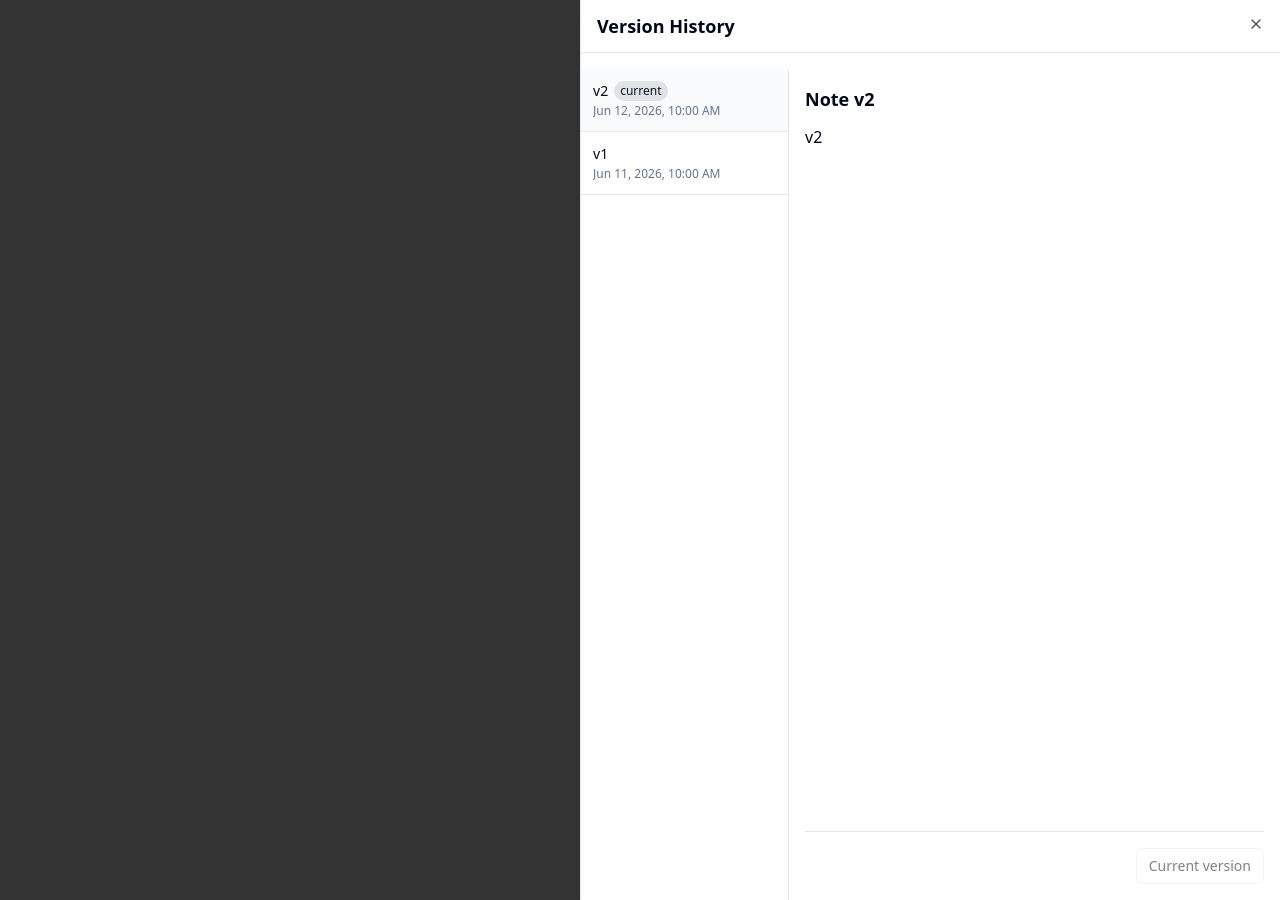
VersionHistorySheet › C05: clicking a version row selects it and shows its preview
Click the button "v1 Jun 11, 2026, 10:00 AM" at (684, 164), box [581,132,788,195]
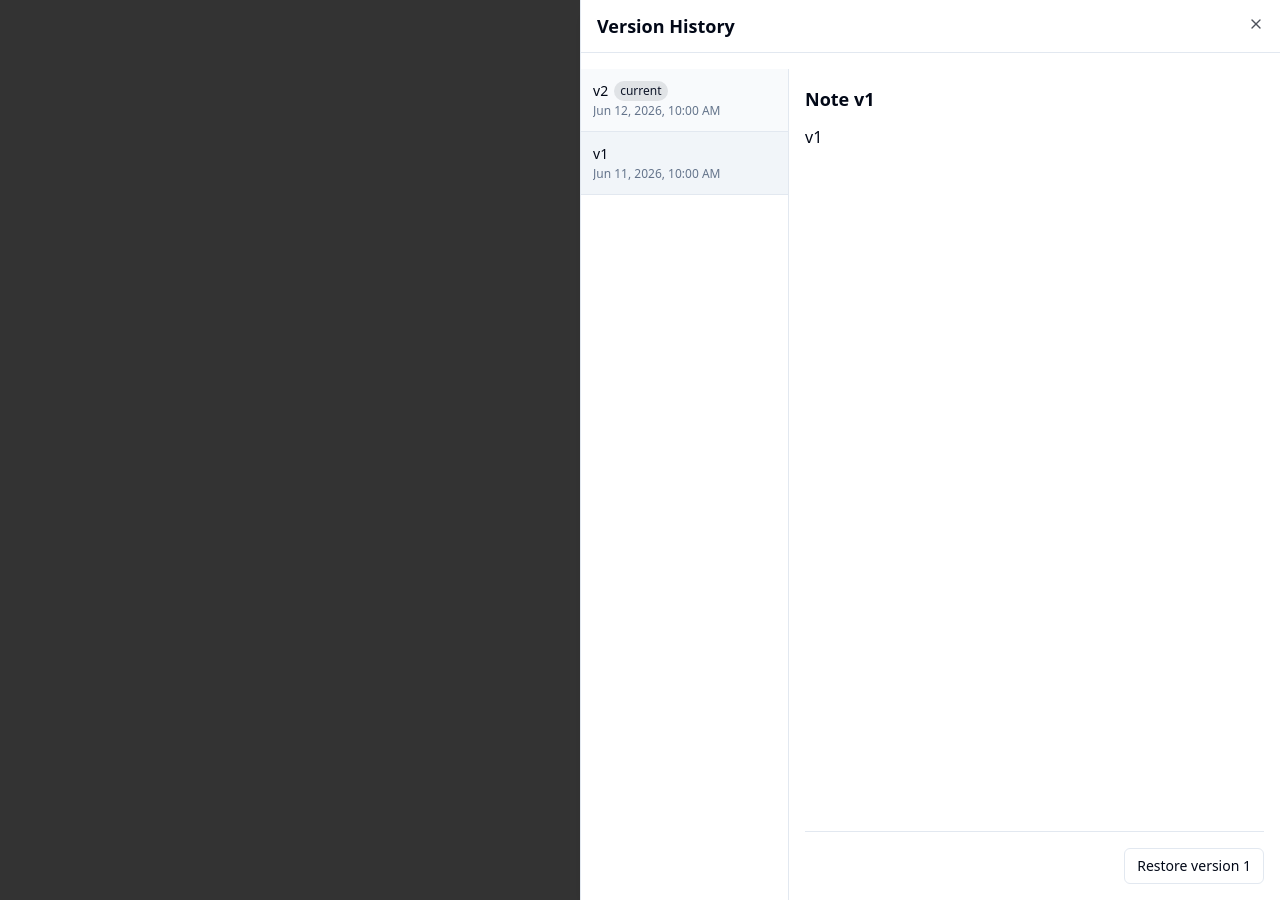
Now the heading "Note v1" is shown, box [805,87,874,111]
